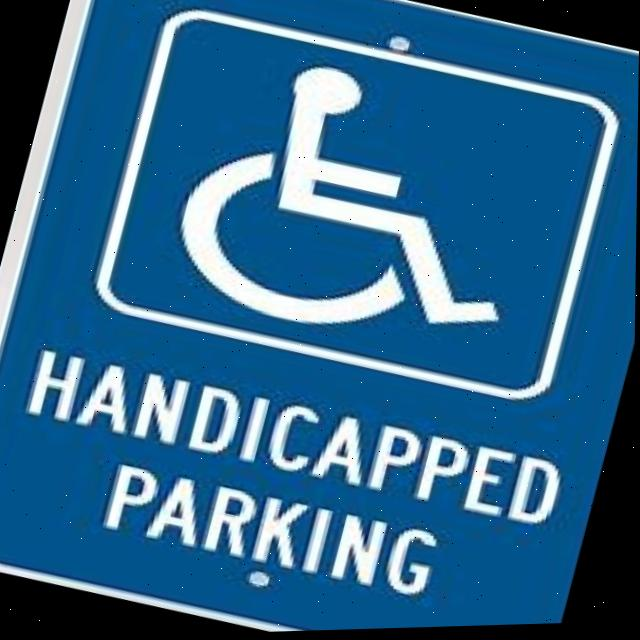symbol_of_access: (161, 41, 552, 378)
